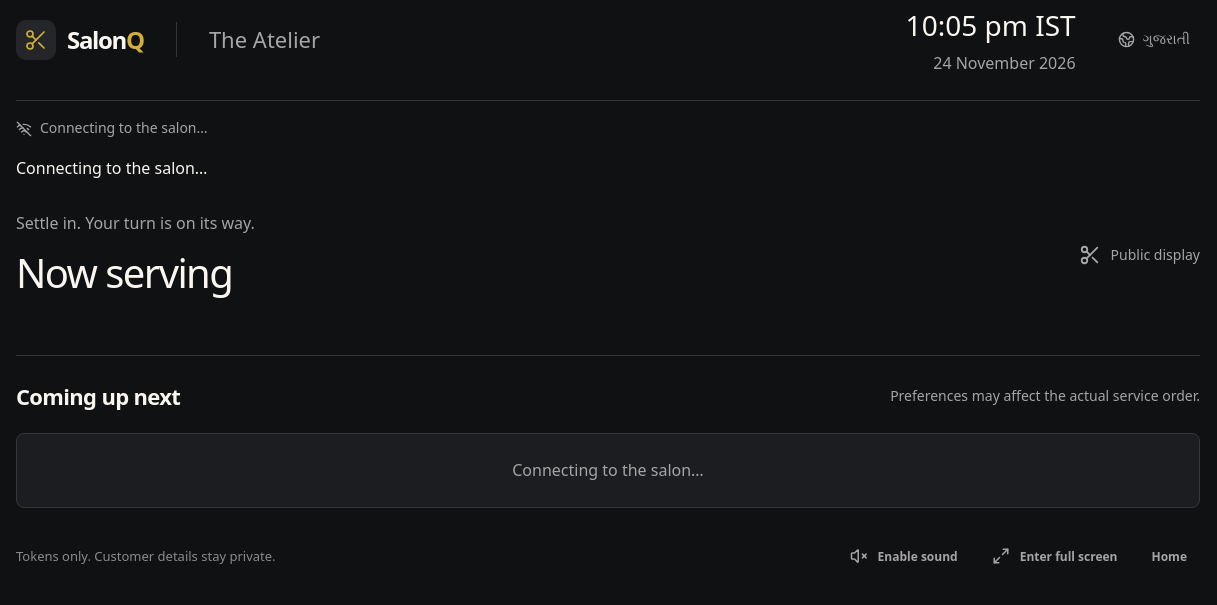
Test: frontend route shells › handles denied fullscreen without crashing
Click the button "Enter full screen" at (1055, 556), box [979,532,1131,580]
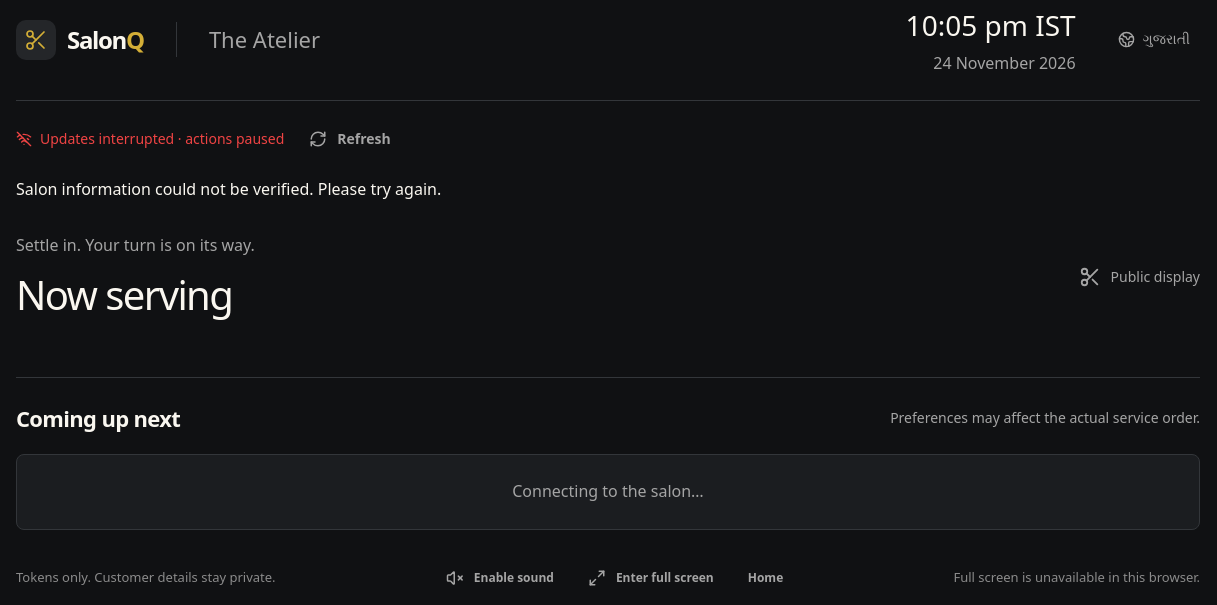
Expected: the text "Full screen is unavailable in this browser." is shown, [954,567,1200,588]
